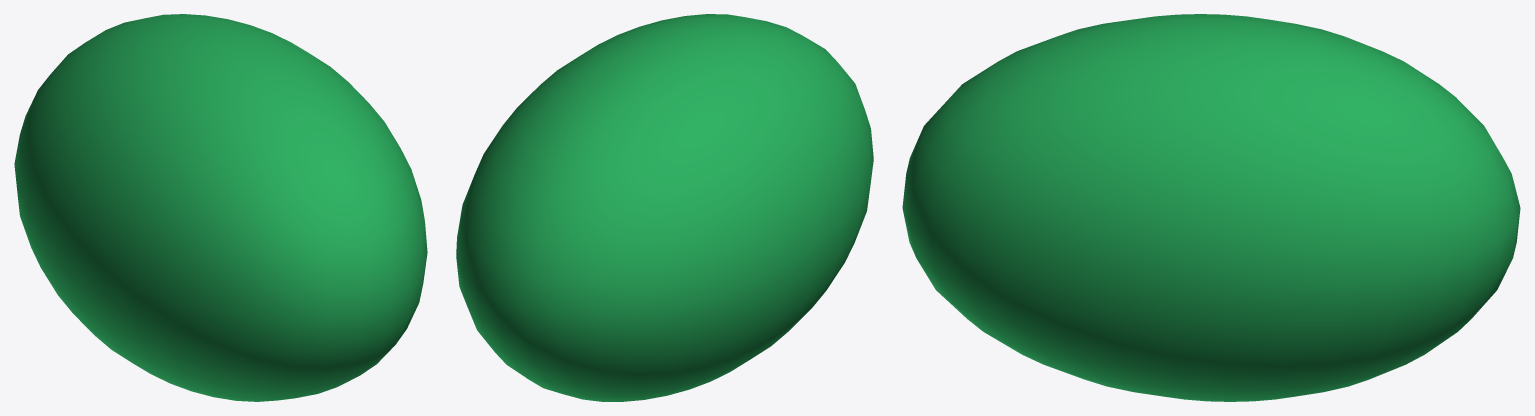
File: projectile.FBX
3 renders of one model, left to right at view 1: azimuth 30°, elevation 25°; view 2: azimuth 150°, elevation 25°; view 3: azimuth 270°, elevation 25°, orthographic. The views are drawn at different scales.
Visible parts, largest first — view 1: Sphere001; view 2: Sphere001; view 3: Sphere001.
Boxes of the visible parts, x1=… form: Sphere001: x1=14, y1=14, x2=427, y2=401; Sphere001: x1=456, y1=14, x2=873, y2=401; Sphere001: x1=902, y1=14, x2=1520, y2=401.
Size of the model in its own units: 10 by 10 by 15.91.
1 material, 1 textured.
